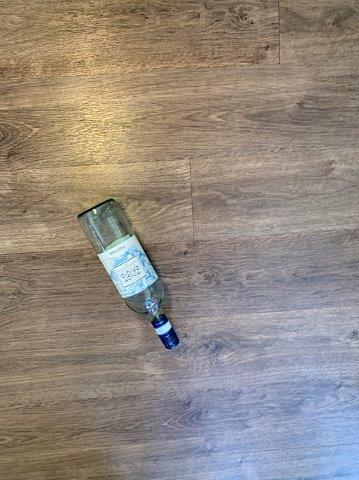botolkaca: (77, 198, 179, 348)
